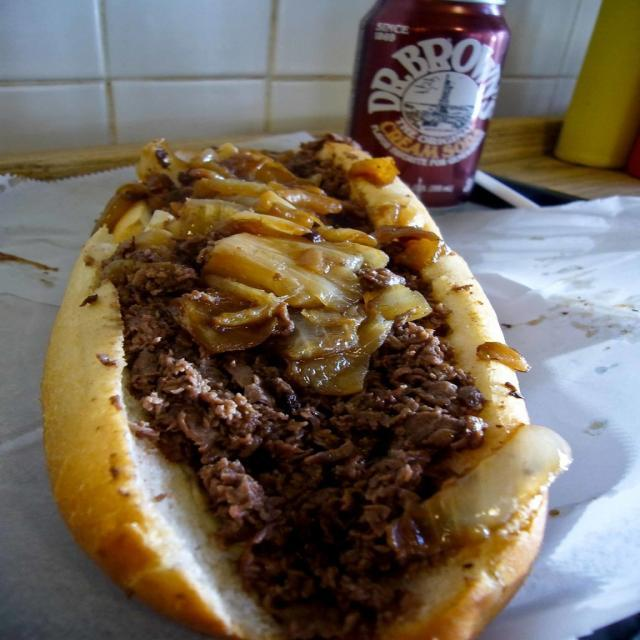Sandwich: (42, 131, 574, 640)
